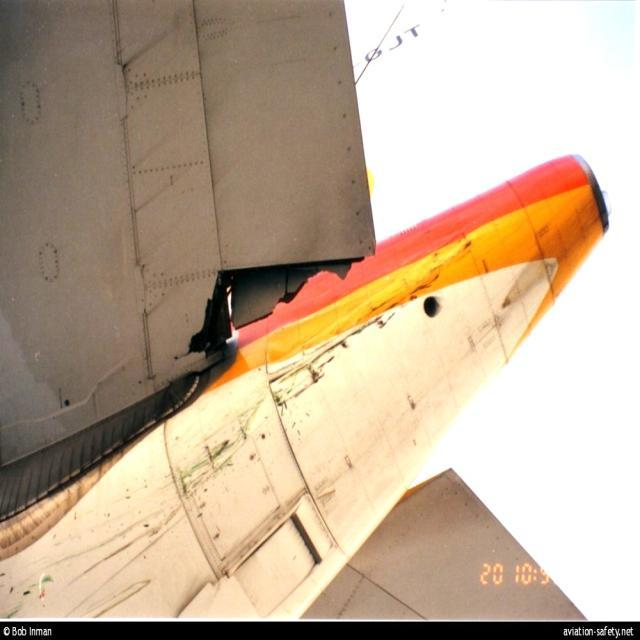crack: (170, 252, 364, 364)
